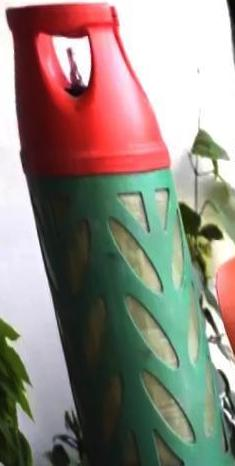cylinder: (1, 0, 235, 466)
